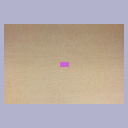ambrosia: (59, 61, 69, 67)
